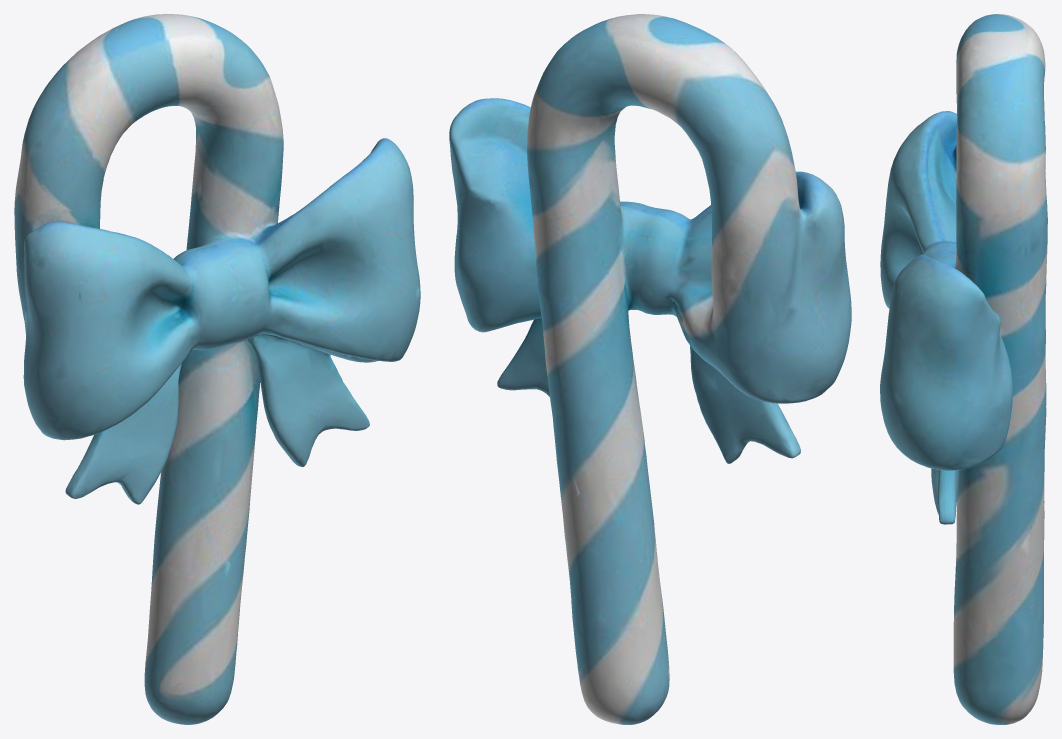
3 renders of one model, left to right at view 1: azimuth 30°, elevation 25°; view 2: azimuth 150°, elevation 25°; view 3: azimuth 270°, elevation 25°, orthographic. The views are drawn at different scales.
Bounding box in the file's own units: 1.08 × 1.9 × 0.4295.
1 material, 1 textured.
